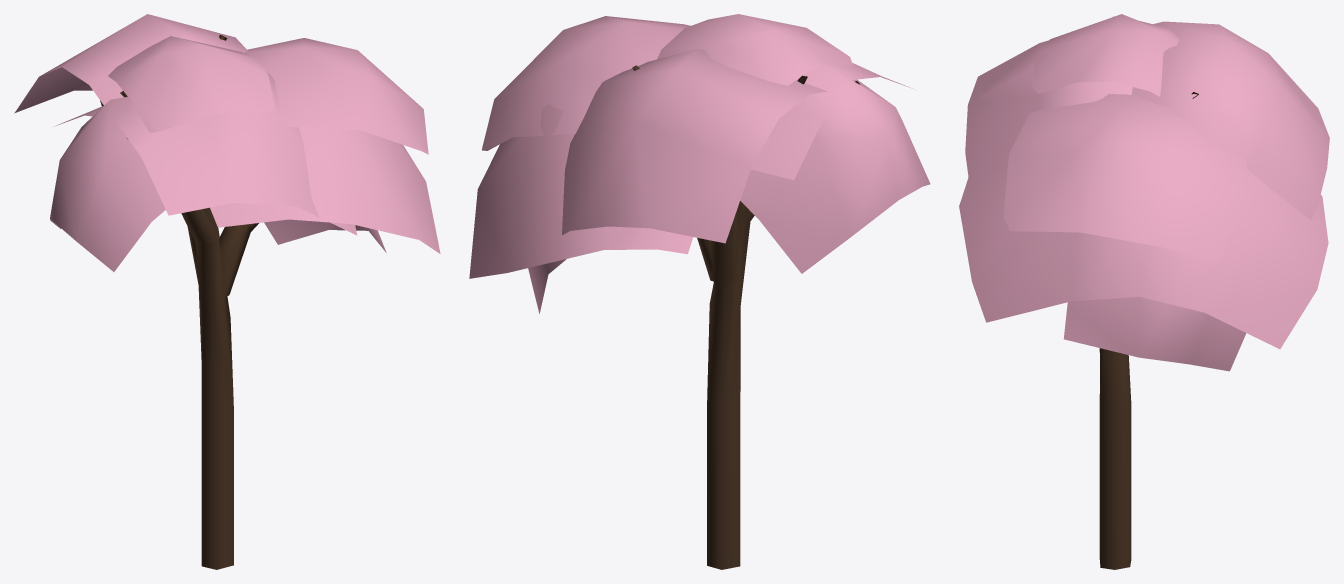
The model's file is SakuraGrande.fbx.
The picture shows the model from 3 angles, left to right: view 1: azimuth 30°, elevation 25°; view 2: azimuth 150°, elevation 25°; view 3: azimuth 270°, elevation 25°; orthographic projection. The views are drawn at different scales.
Visible parts, largest first — view 1: SakuraGrande_LOD0; view 2: SakuraGrande_LOD0; view 3: SakuraGrande_LOD0.
Part boxes in pixels (left/top/right/bottom): SakuraGrande_LOD0: left=14, top=14, right=440, bottom=569; SakuraGrande_LOD0: left=469, top=14, right=930, bottom=569; SakuraGrande_LOD0: left=959, top=14, right=1329, bottom=569.
Size of what is drawn, in the model's own units: 1588 by 2172 by 1387.
